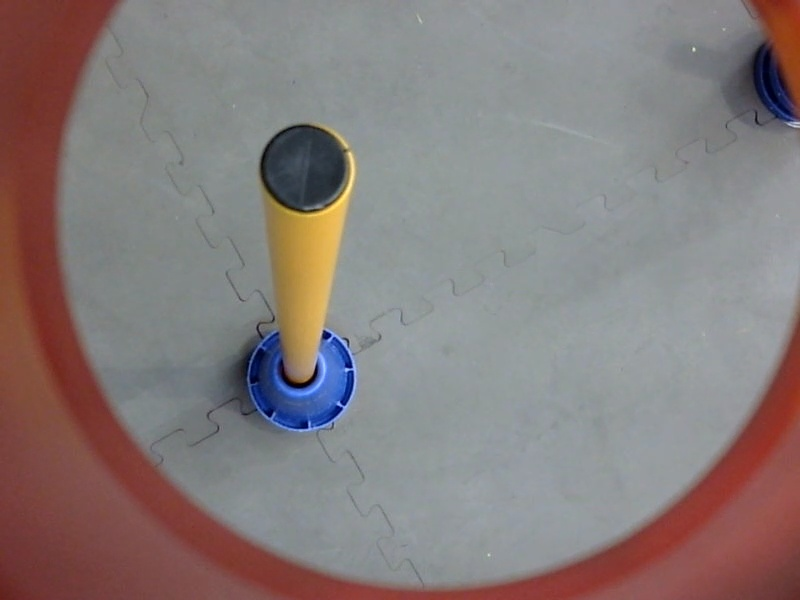tip: (253, 117, 359, 221)
